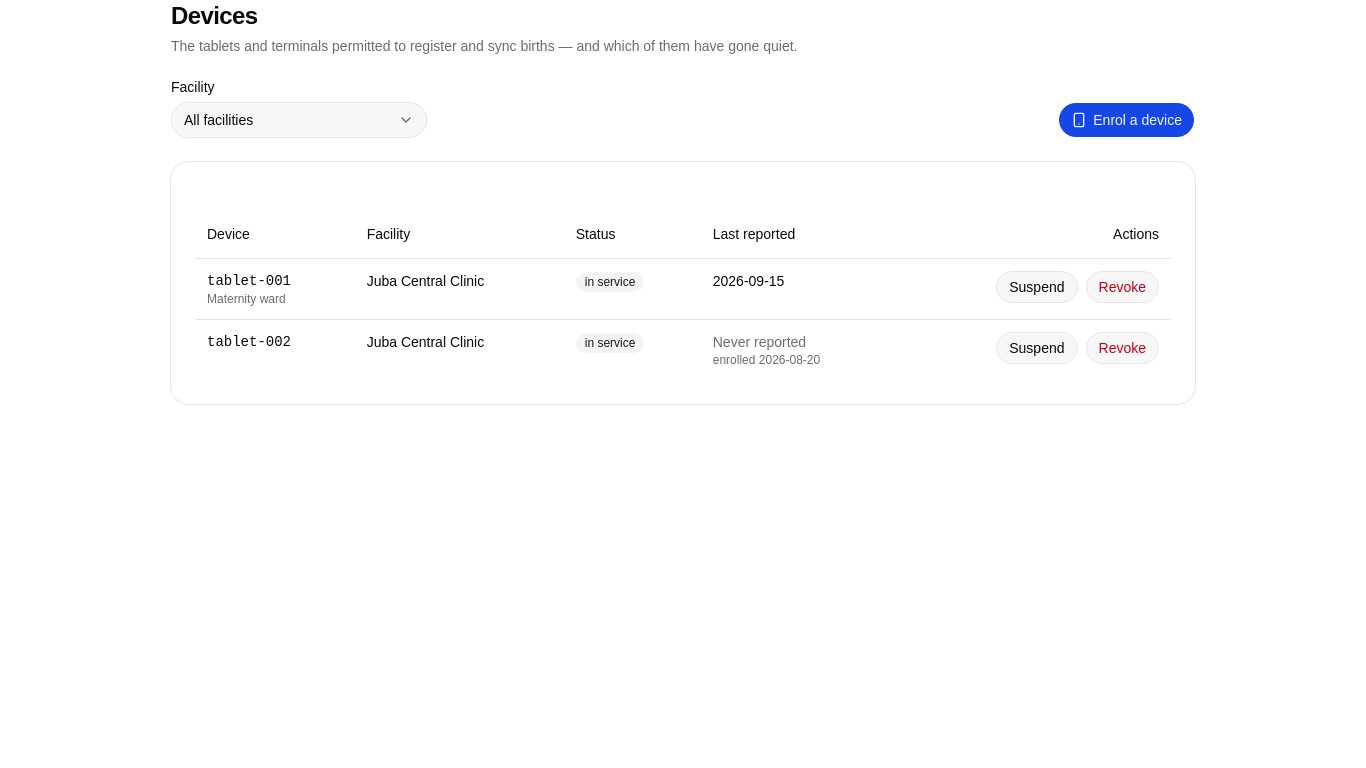
Scenario: DeviceList › suspends a device with a reason and reflects the new status
expect the text "tablet-001" is shown: met, box [207,272,291,288]
# Act on the first device's row.
Click the button "Suspend" in the row of "tablet-001" at (1037, 286), box [996,270,1078,302]
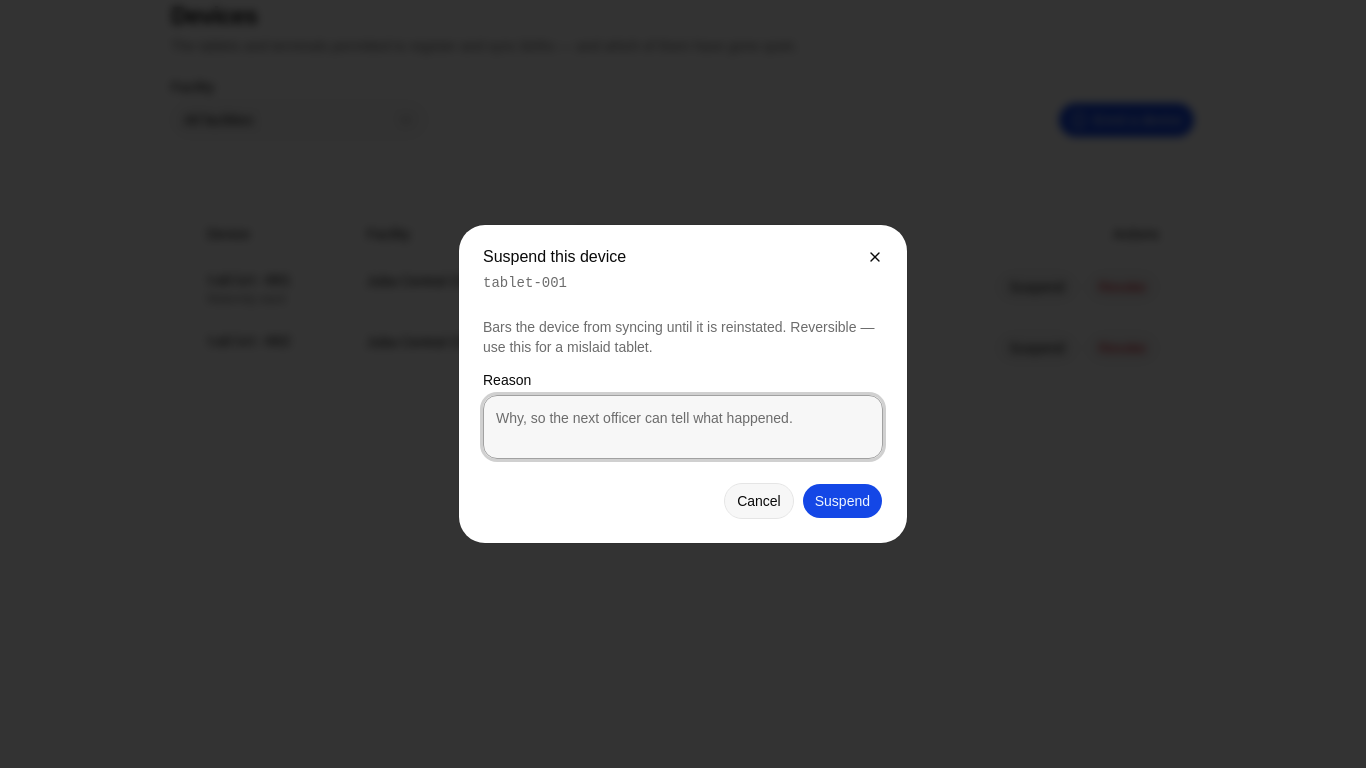
Type "Mislaid at handover." into the text box labelled "Reason" at (683, 427), box [483,395,883,459]
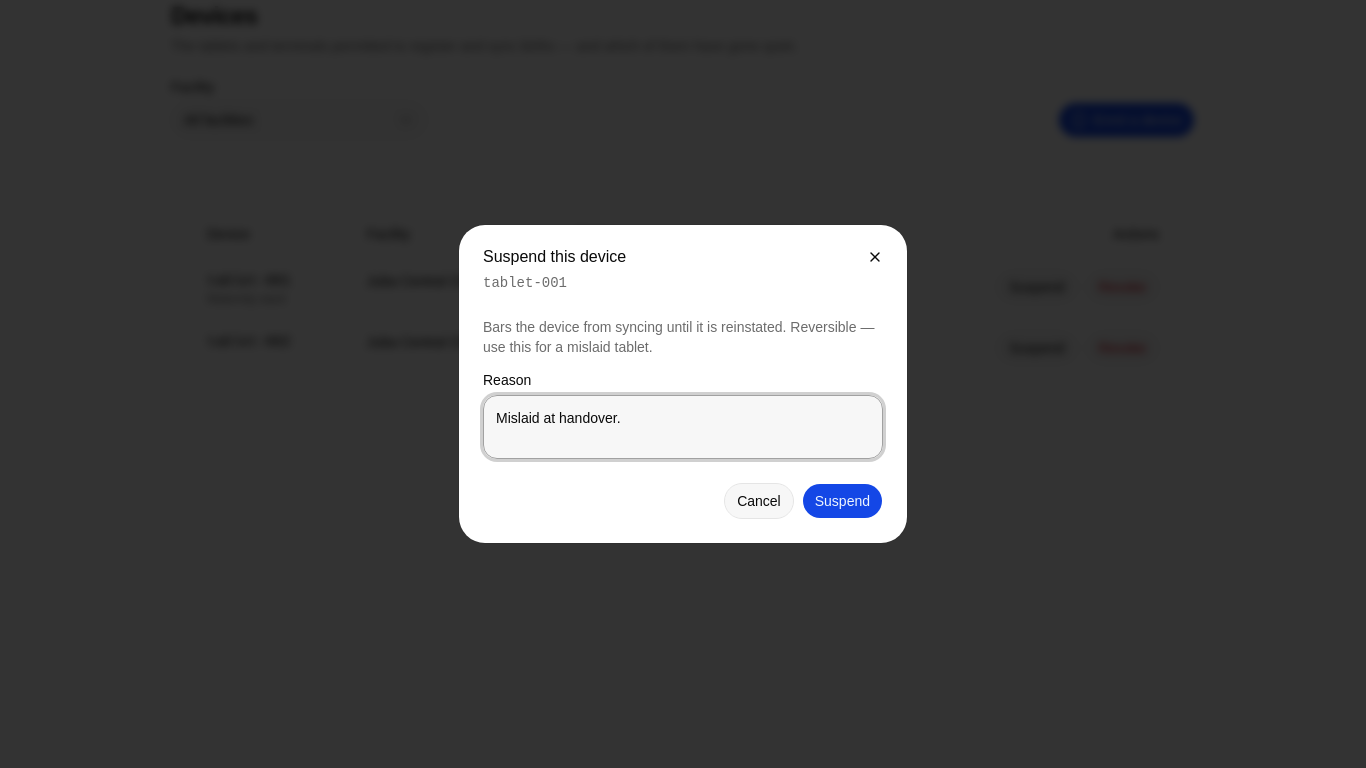
Click the button "Suspend" at (842, 501), box [802,483,883,519]
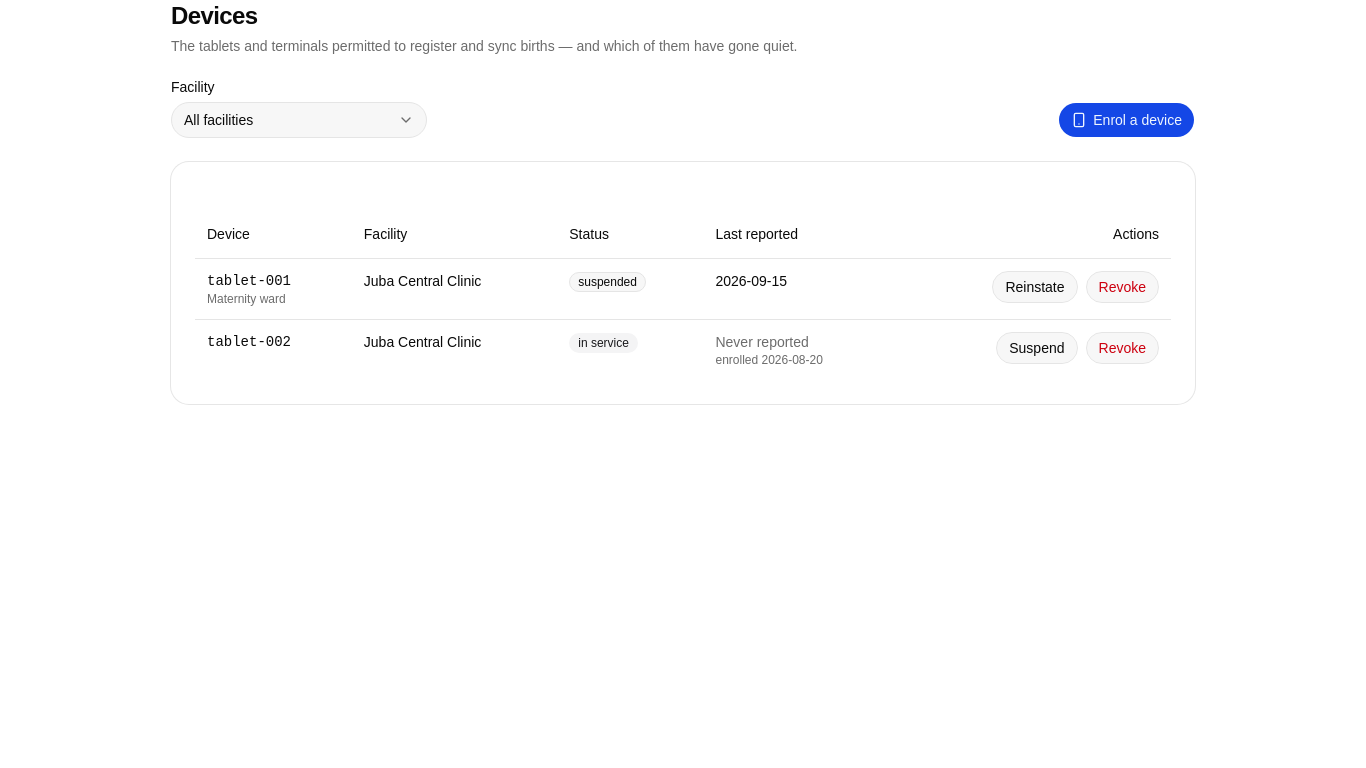
expect the text "suspended" is shown: met, box [569,272,646,292]
